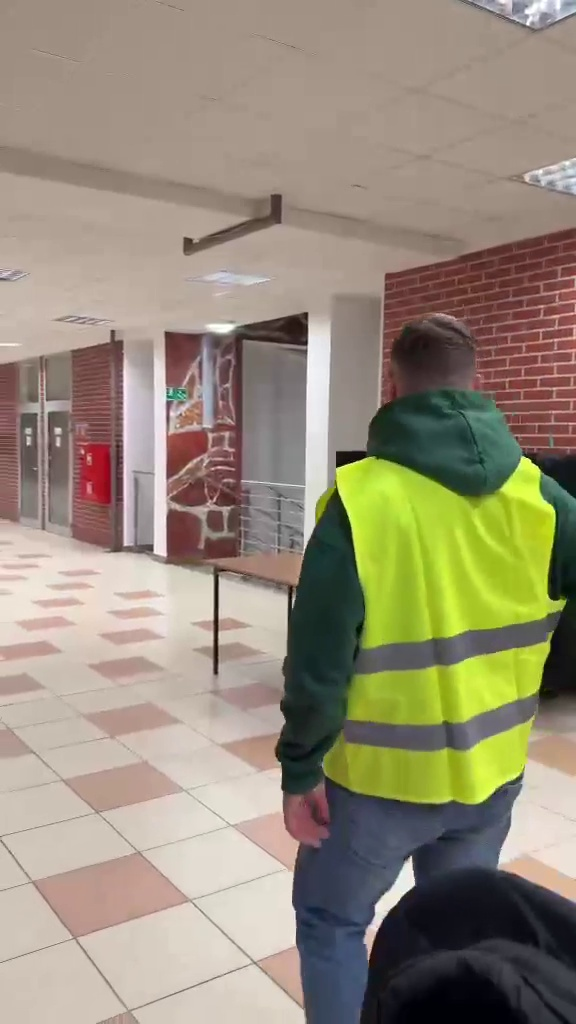vest: (266, 306, 572, 978)
